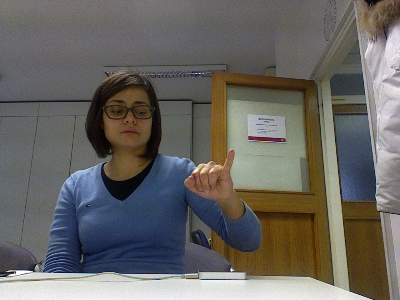小指: (182, 147, 236, 200)
